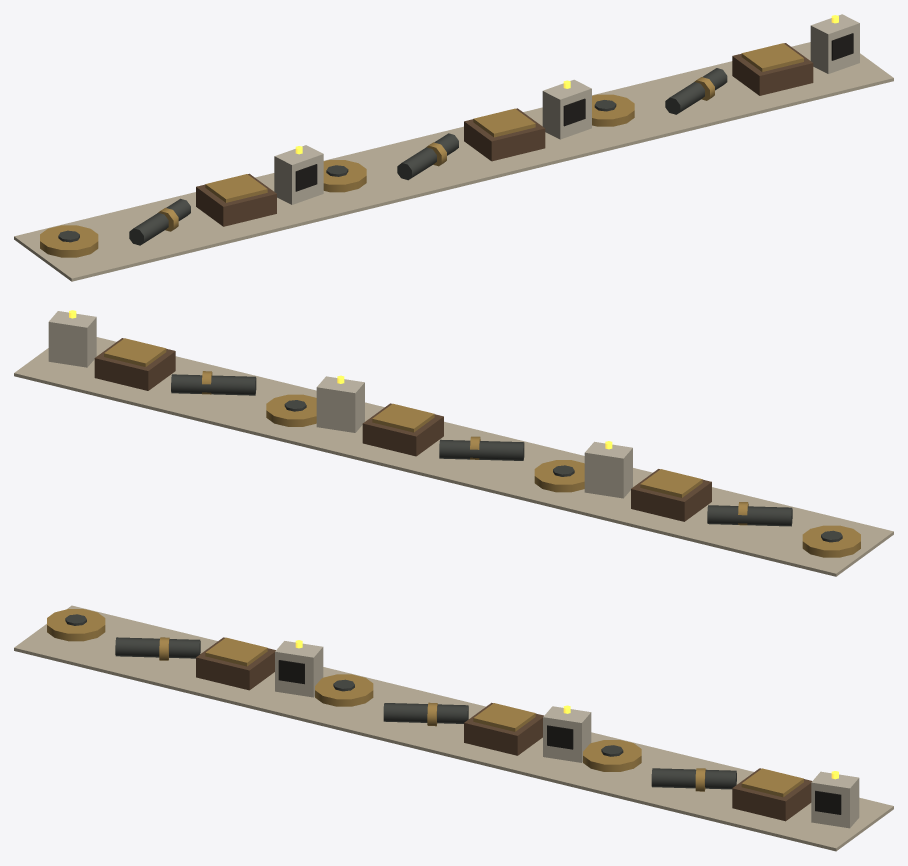
The model's file is goods_junk.glb.
3 renders of one model, top to bottom at view 1: azimuth 30°, elevation 25°; view 2: azimuth 150°, elevation 25°; view 3: azimuth 330°, elevation 25°, orthographic.
Parts seen in each view (by area): view 1: goods_junk; view 2: goods_junk; view 3: goods_junk.
Boxes of the visible parts, bbox=[...] form: goods_junk: bbox=[14, 14, 893, 281]; goods_junk: bbox=[14, 310, 893, 576]; goods_junk: bbox=[14, 605, 893, 851].
Bounding box in the file's own units: 6.9 × 0.405 × 0.84.
